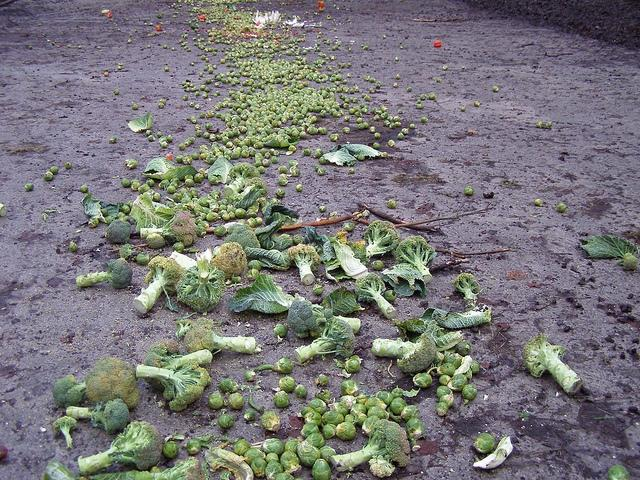broccoli: (78, 421, 162, 474), (330, 419, 410, 472), (522, 332, 584, 396), (136, 363, 212, 412), (143, 339, 213, 391), (133, 256, 186, 314), (85, 357, 140, 410), (176, 256, 226, 314), (288, 299, 362, 338), (183, 316, 256, 354), (294, 318, 356, 362), (88, 457, 210, 479), (371, 331, 436, 372), (66, 398, 130, 435), (140, 208, 198, 246), (394, 236, 438, 284), (354, 272, 396, 318), (75, 257, 134, 289), (287, 244, 321, 286), (211, 242, 248, 280), (364, 220, 400, 259), (51, 374, 87, 408), (224, 162, 260, 196), (452, 272, 483, 311), (224, 224, 260, 250), (53, 416, 78, 449), (105, 220, 132, 244), (238, 38, 246, 42), (254, 116, 258, 120)
brussels sprouts: (406, 418, 424, 451), (280, 450, 302, 474), (473, 433, 495, 454), (335, 422, 357, 441), (362, 416, 380, 438), (304, 432, 325, 450), (447, 374, 467, 392), (606, 464, 631, 478), (227, 391, 245, 410), (400, 405, 420, 422), (233, 439, 251, 456), (273, 390, 290, 408), (217, 414, 236, 430), (321, 422, 337, 439), (208, 393, 224, 410), (163, 440, 178, 458), (220, 378, 238, 393), (462, 384, 478, 400), (279, 376, 295, 392), (186, 438, 201, 454), (304, 412, 322, 424), (350, 404, 367, 414), (244, 408, 256, 422), (266, 452, 280, 464), (371, 260, 383, 270), (182, 154, 193, 164), (198, 198, 210, 206), (172, 193, 182, 202), (260, 148, 268, 156), (288, 112, 294, 120), (225, 150, 232, 156), (276, 110, 283, 116), (263, 119, 270, 125), (402, 128, 408, 134), (254, 112, 261, 117), (232, 128, 240, 132), (364, 106, 369, 110), (272, 71, 276, 73)
